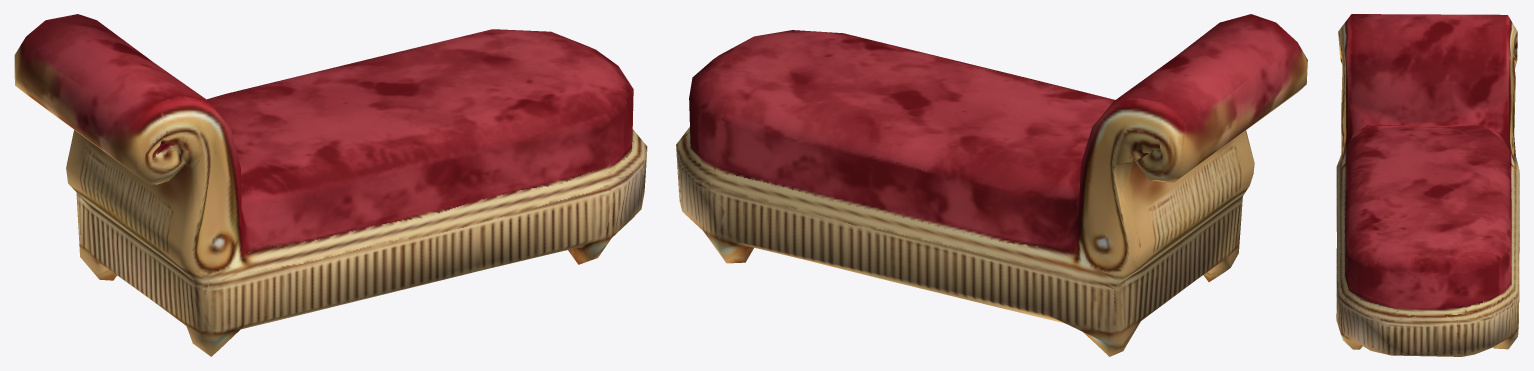
File: crimson-chaise.glb
The picture shows the model from 3 angles, left to right: view 1: azimuth 30°, elevation 25°; view 2: azimuth 150°, elevation 25°; view 3: azimuth 270°, elevation 25°; orthographic projection. The views are drawn at different scales.
Parts seen in each view (by area): view 1: geometry_0.001; view 2: geometry_0.001; view 3: geometry_0.001.
Part boxes in pixels (x1,y1,x2,y2): geometry_0.001: (14,14,647,356); geometry_0.001: (676,14,1307,356); geometry_0.001: (1336,14,1519,356).
Bounding box in the file's own units: 1 × 0.4705 × 0.411.
Materials: 1 (1 with a texture image).
